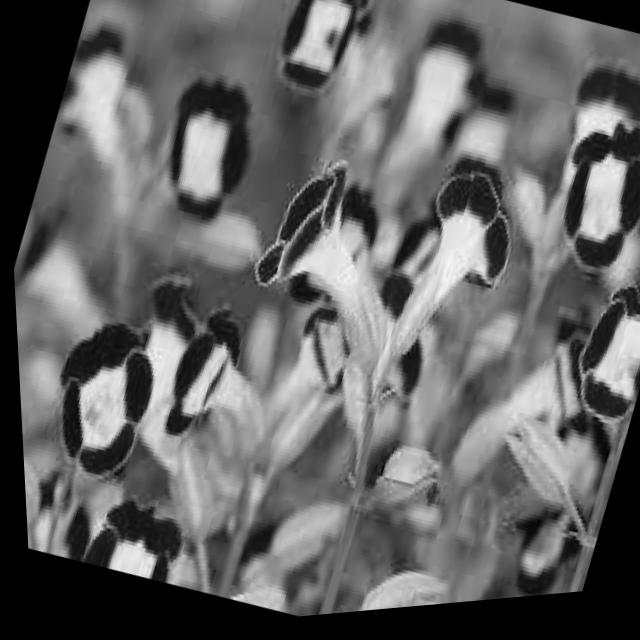Flower: (25, 299, 177, 496), (234, 139, 386, 327), (145, 56, 280, 240), (399, 155, 537, 327), (531, 116, 640, 303), (149, 295, 264, 451), (554, 268, 640, 440), (74, 482, 188, 583)
